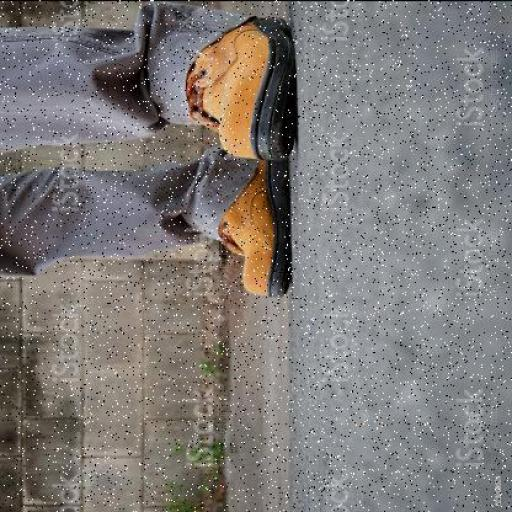safety_shoe: (192, 14, 302, 158), (208, 154, 288, 295)
